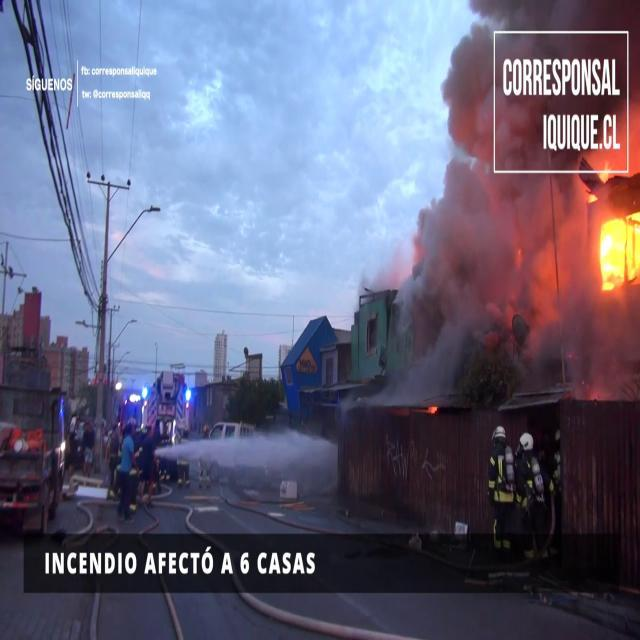Fire: (593, 205, 640, 292)
Smoke: (387, 11, 575, 393)
